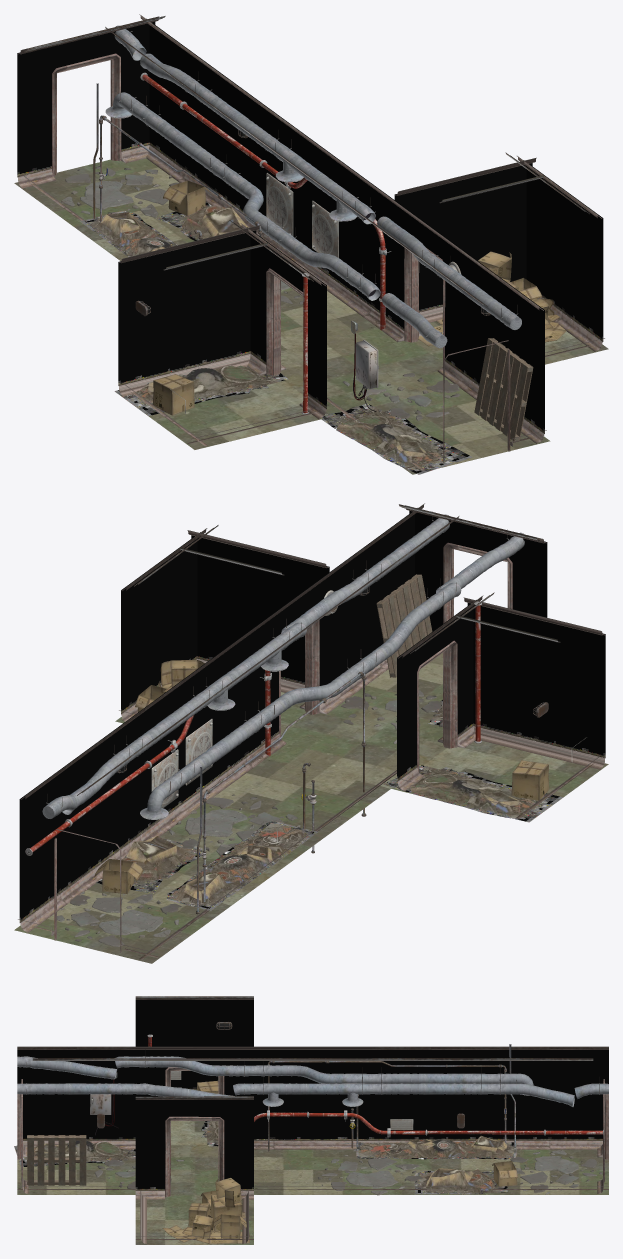
File: bunker.room.15.ae.glb
The picture shows the model from 3 angles, top to bottom: view 1: azimuth 30°, elevation 25°; view 2: azimuth 150°, elevation 25°; view 3: azimuth 270°, elevation 25°; orthographic projection. The views are drawn at different scales.
Parts seen in each view (by area): view 1: bunker.room.15.ae_LOD0, junk_pile_straight_b (7), pallet_stacks_c (1), junk_pile_straight_b (2), concrete_debris_a (2), junk_pile_straight_a, air_duct_300_d (3), junk_pile_a, cardboard_box_pile_a (1), air_duct_300_a (4), air_duct_300_dmg_b (2), air_duct_300_a (5) (+13 smaller); view 2: bunker.room.15.ae_LOD0, junk_pile_straight_a, junk_pile_straight_b (2), concrete_debris_a (2), junk_pile_a, concrete_debris_a (12), pallet_stacks_c (1), air_duct_300_d (3), air_duct_300_b (6), air_duct_300_c (2), air_duct_300_dmg_a (1), air_duct_300_a (5) (+12 smaller); view 3: bunker.room.15.ae_LOD0, cardboard_box_pile_a (1), junk_pile_straight_a, pallet_stacks_c (1), junk_pile_a, air_duct_300_d (3), concrete_debris_a (12), concrete_debris_a (2), air_duct_300_a (6), air_duct_300_a (4), air_duct_300_dmg_a (1), junk_pile_straight_b (7) (+12 smaller).
Boxes of the visible parts, left/top/right/bottom form: bunker.room.15.ae_LOD0: left=14, top=14, right=608, bottom=474; junk_pile_straight_b (7): left=320, top=403, right=472, bottom=474; pallet_stacks_c (1): left=474, top=338, right=533, bottom=441; junk_pile_straight_b (2): left=114, top=365, right=288, bottom=415; concrete_debris_a (2): left=61, top=166, right=179, bottom=217; junk_pile_straight_a: left=80, top=211, right=177, bottom=256; air_duct_300_d (3): left=271, top=139, right=359, bottom=221; junk_pile_a: left=155, top=202, right=248, bottom=240; cardboard_box_pile_a (1): left=418, top=251, right=566, bottom=346; air_duct_300_a (4): left=430, top=256, right=521, bottom=329; air_duct_300_dmg_b (2): left=355, top=274, right=447, bottom=348; air_duct_300_a (5): left=139, top=105, right=228, bottom=178; bunker.room.15.ae_LOD0: left=14, top=503, right=608, bottom=963; junk_pile_straight_a: left=166, top=820, right=317, bottom=910; junk_pile_straight_b (2): left=382, top=765, right=562, bottom=822; concrete_debris_a (2): left=57, top=891, right=181, bottom=946; junk_pile_a: left=96, top=836, right=202, bottom=893; concrete_debris_a (12): left=168, top=794, right=303, bottom=856; pallet_stacks_c (1): left=376, top=574, right=432, bottom=677; air_duct_300_d (3): left=204, top=628, right=293, bottom=710; air_duct_300_b (6): left=256, top=659, right=368, bottom=726; air_duct_300_c (2): left=359, top=588, right=447, bottom=672; air_duct_300_dmg_a (1): left=42, top=745, right=134, bottom=818; air_duct_300_a (5): left=177, top=711, right=265, bottom=783; bunker.room.15.ae_LOD0: left=17, top=996, right=608, bottom=1244; cardboard_box_pile_a (1): left=162, top=1178, right=249, bottom=1244; junk_pile_straight_a: left=356, top=1135, right=516, bottom=1159; pallet_stacks_c (1): left=27, top=1135, right=86, bottom=1185; junk_pile_a: left=414, top=1168, right=507, bottom=1194; air_duct_300_d (3): left=254, top=1077, right=372, bottom=1106; concrete_debris_a (12): left=318, top=1149, right=422, bottom=1195; concrete_debris_a (2): left=510, top=1150, right=602, bottom=1194; air_duct_300_a (6): left=372, top=1077, right=490, bottom=1094; air_duct_300_a (4): left=17, top=1083, right=135, bottom=1094; air_duct_300_dmg_a (1): left=490, top=1077, right=608, bottom=1106; junk_pile_straight_b (7): left=14, top=1140, right=135, bottom=1166.
Size of the model in its own units: 9.01 by 3.88 by 15.08.
Materials: 10 (10 with a texture image).
